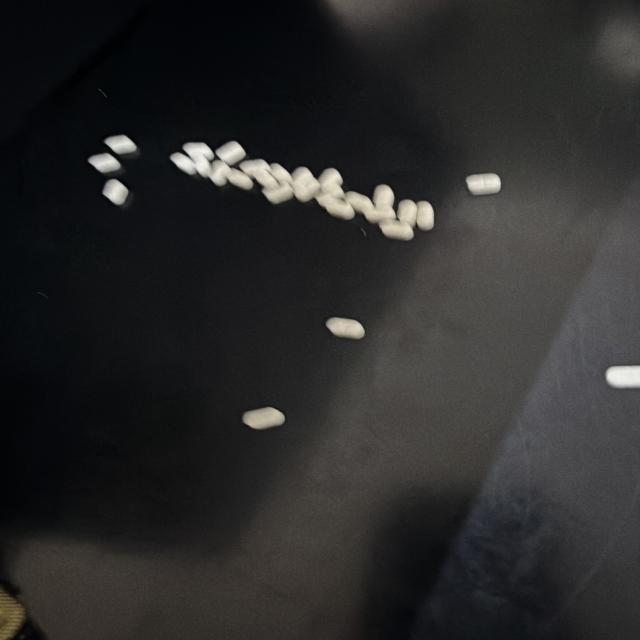pill: (292, 167, 320, 202), (317, 194, 354, 219), (243, 407, 285, 429), (326, 317, 364, 339), (466, 174, 501, 195), (606, 366, 639, 388), (216, 141, 246, 165), (379, 220, 413, 240), (88, 153, 121, 173), (103, 179, 128, 205), (104, 135, 137, 154), (345, 192, 373, 214), (263, 184, 293, 204), (293, 179, 319, 202), (170, 153, 197, 175), (183, 142, 214, 161), (239, 159, 270, 176), (228, 169, 253, 190), (210, 160, 230, 186), (365, 206, 395, 223), (398, 200, 417, 226), (417, 201, 434, 230), (251, 171, 279, 188), (373, 185, 394, 206), (318, 168, 342, 186), (270, 164, 292, 183), (194, 156, 212, 177), (321, 183, 344, 199), (292, 167, 313, 181)
